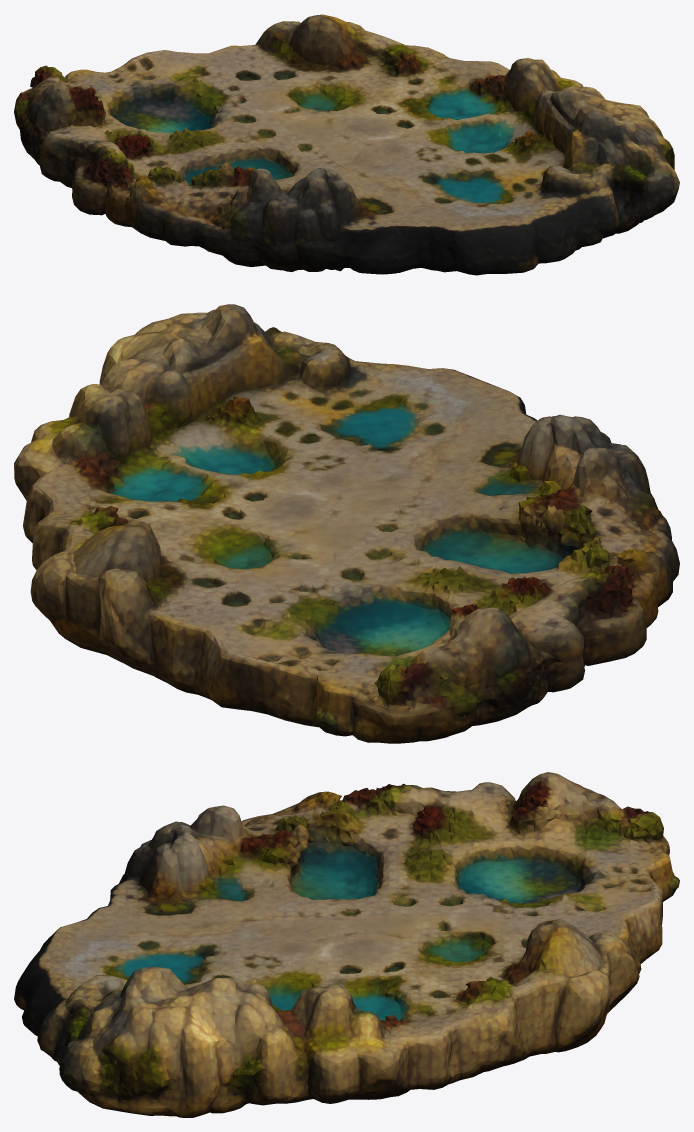
Rendered from shore_reef_flat.glb.
3 views of the same model, one above another, from view 1: azimuth 30°, elevation 25°; view 2: azimuth 150°, elevation 25°; view 3: azimuth 270°, elevation 25° (orthographic). The views are drawn at different scales.
Visible parts, largest first — view 1: world; view 2: world; view 3: world.
Part boxes in pixels (x1,y1,x2,y2): world: (14, 14, 679, 275); world: (14, 304, 679, 743); world: (14, 772, 679, 1117).
Size of the model in its own units: 0.9925 by 0.2059 by 0.9989.
Materials: 1 (1 with a texture image).
